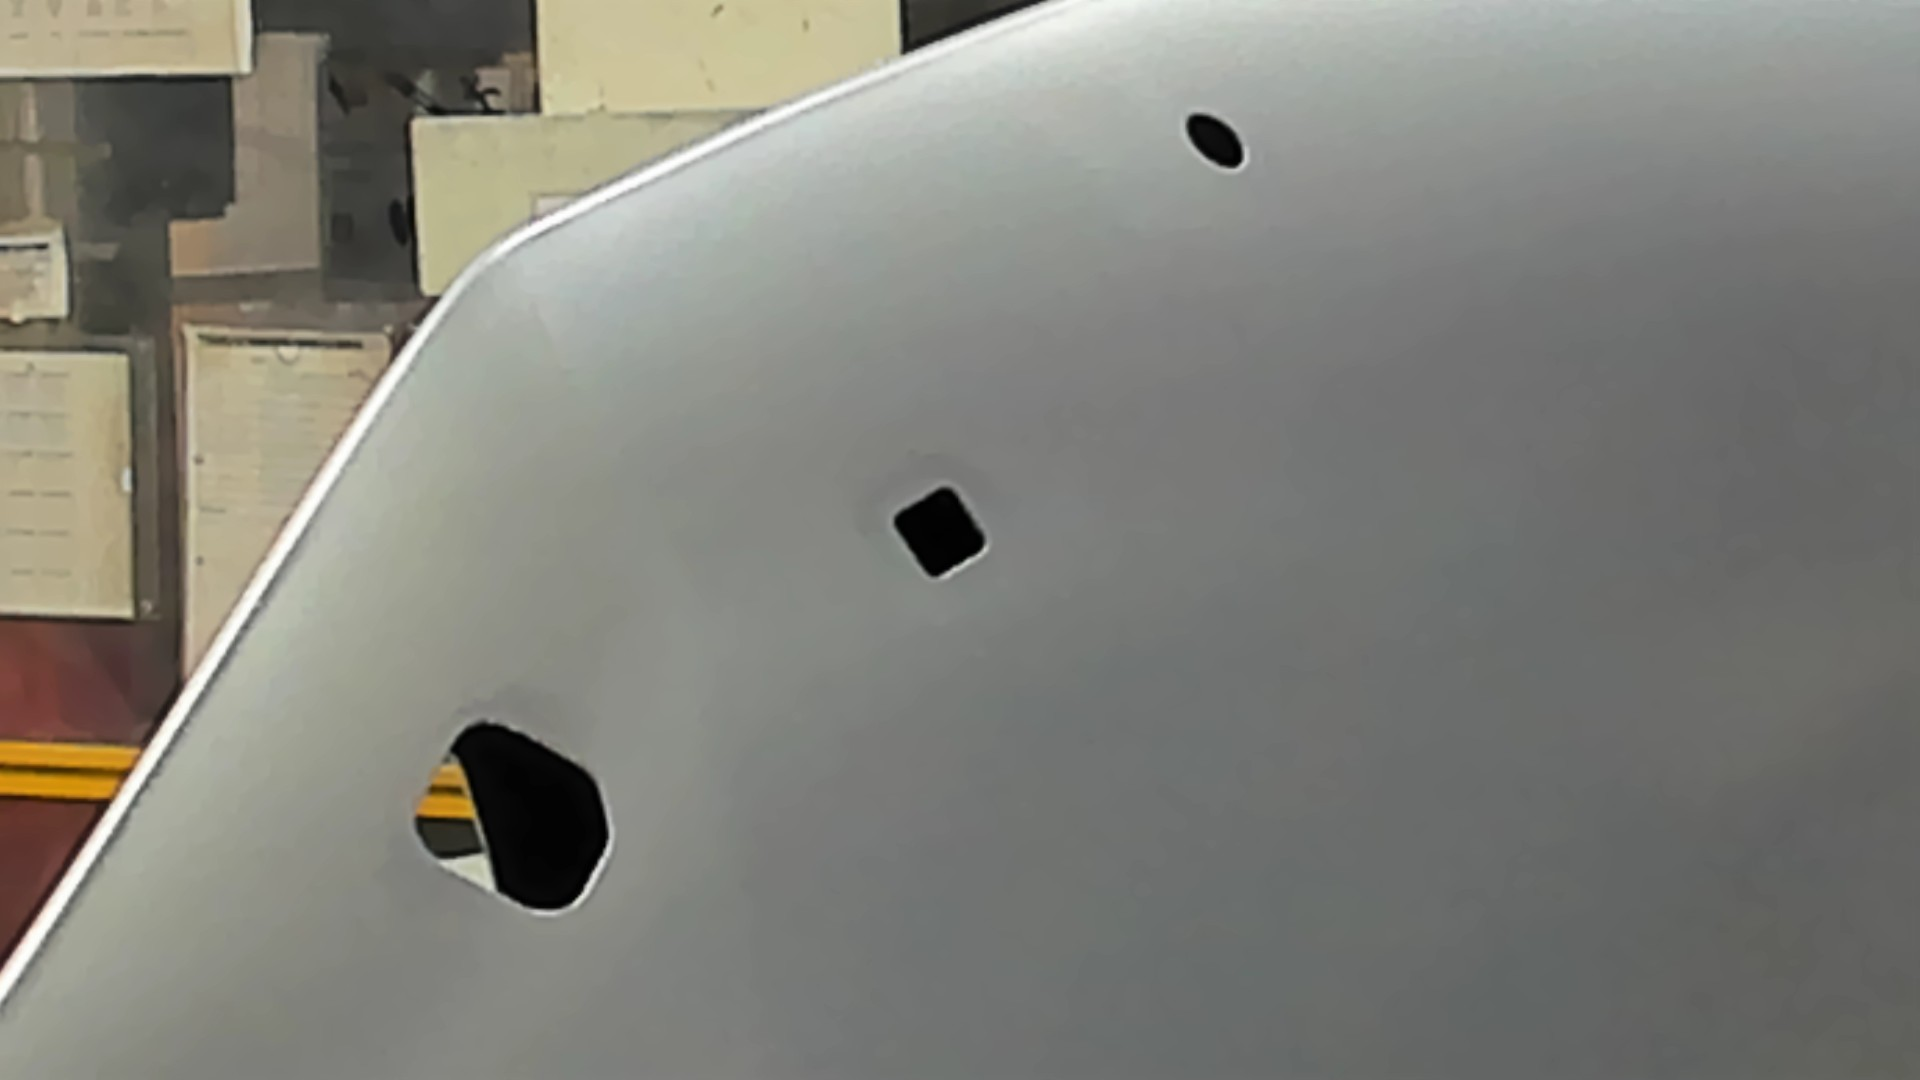chico: (1182, 109, 1251, 171)
grande: (410, 717, 616, 920)
mediano: (889, 481, 992, 582)
